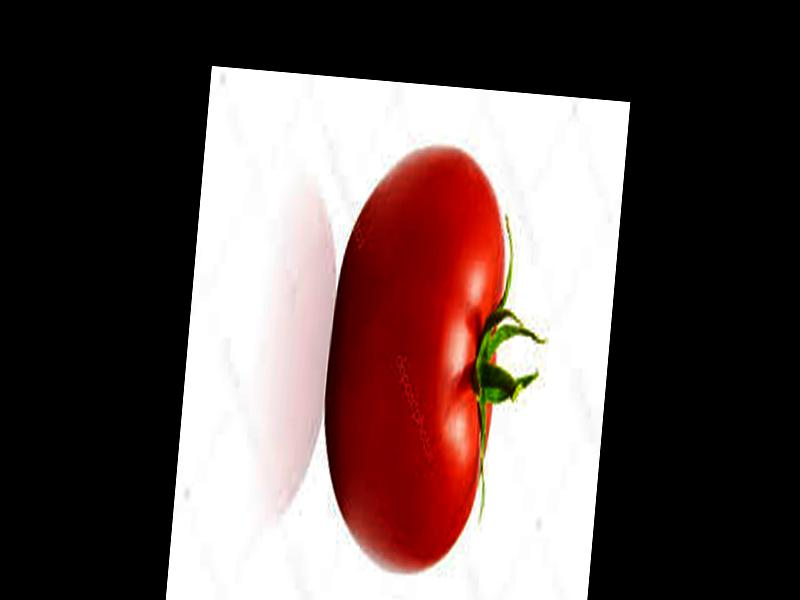Tomato: (311, 136, 514, 580)
